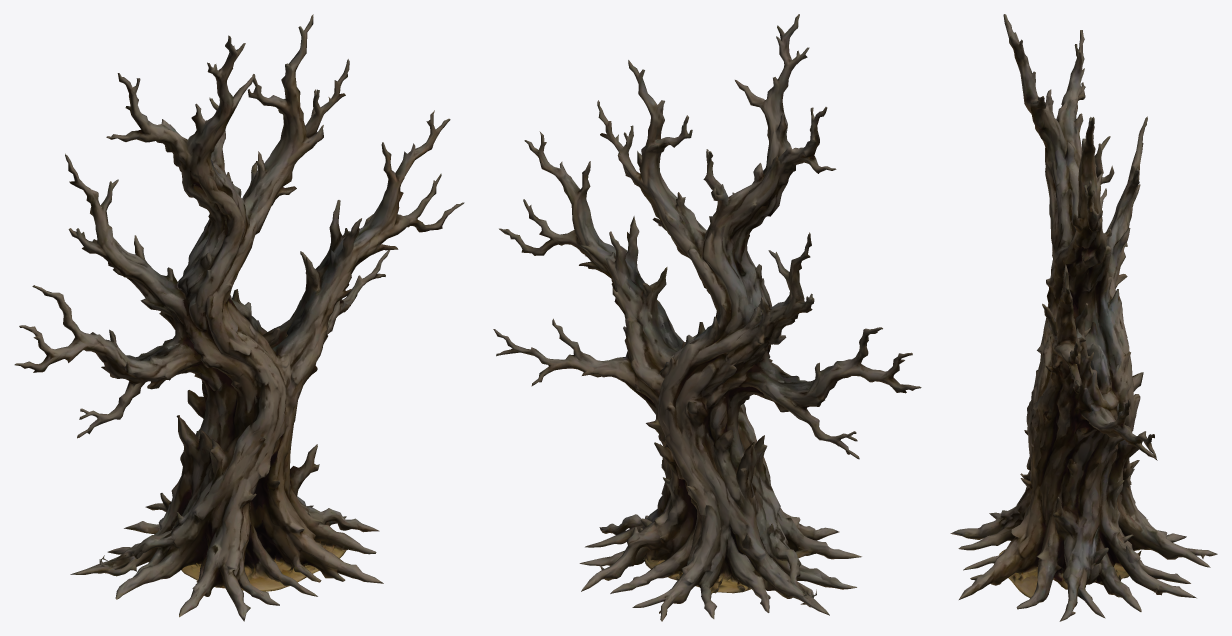
The model's file is nat_tree_dead_v1.glb.
3 views of the same model, side by side, from view 1: azimuth 30°, elevation 25°; view 2: azimuth 150°, elevation 25°; view 3: azimuth 270°, elevation 25° (orthographic). The views are drawn at different scales.
Visible parts, largest first — view 1: tripo_node_b34e11d1-fa89-4f6c-af5d-ba4100efd041; view 2: tripo_node_b34e11d1-fa89-4f6c-af5d-ba4100efd041; view 3: tripo_node_b34e11d1-fa89-4f6c-af5d-ba4100efd041.
Part boxes in pixels (bbox=[...]): tripo_node_b34e11d1-fa89-4f6c-af5d-ba4100efd041: bbox=[14, 14, 464, 621]; tripo_node_b34e11d1-fa89-4f6c-af5d-ba4100efd041: bbox=[493, 14, 921, 621]; tripo_node_b34e11d1-fa89-4f6c-af5d-ba4100efd041: bbox=[950, 14, 1217, 621].
Size of the model in its own units: 0.8166 by 0.9808 by 0.452.
1 material, 1 textured.
